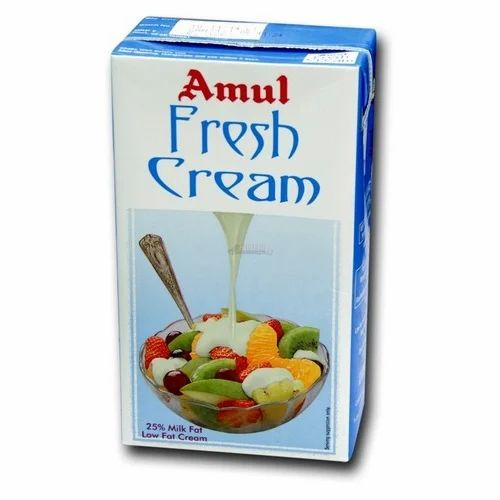Amul: (173, 67, 294, 104)
